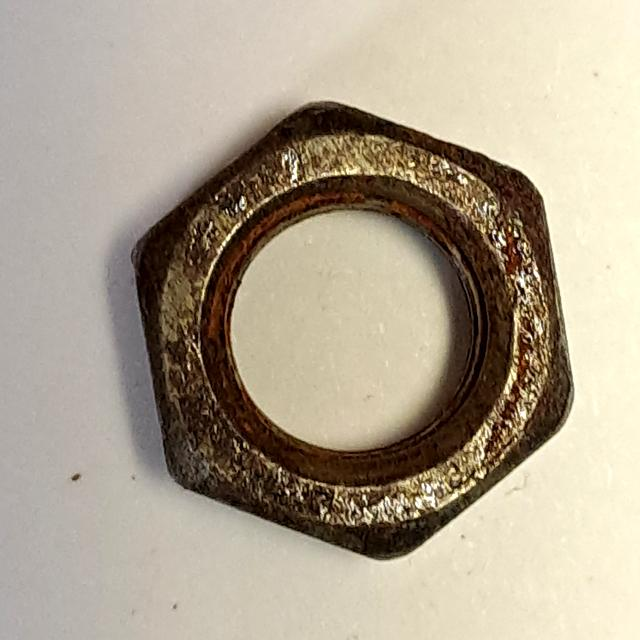Rust: (117, 87, 584, 579)
